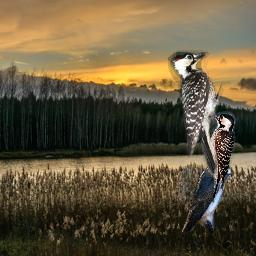Swallow: (179, 160, 231, 232)
Woodpecker: (166, 50, 227, 177), (205, 111, 236, 206)
